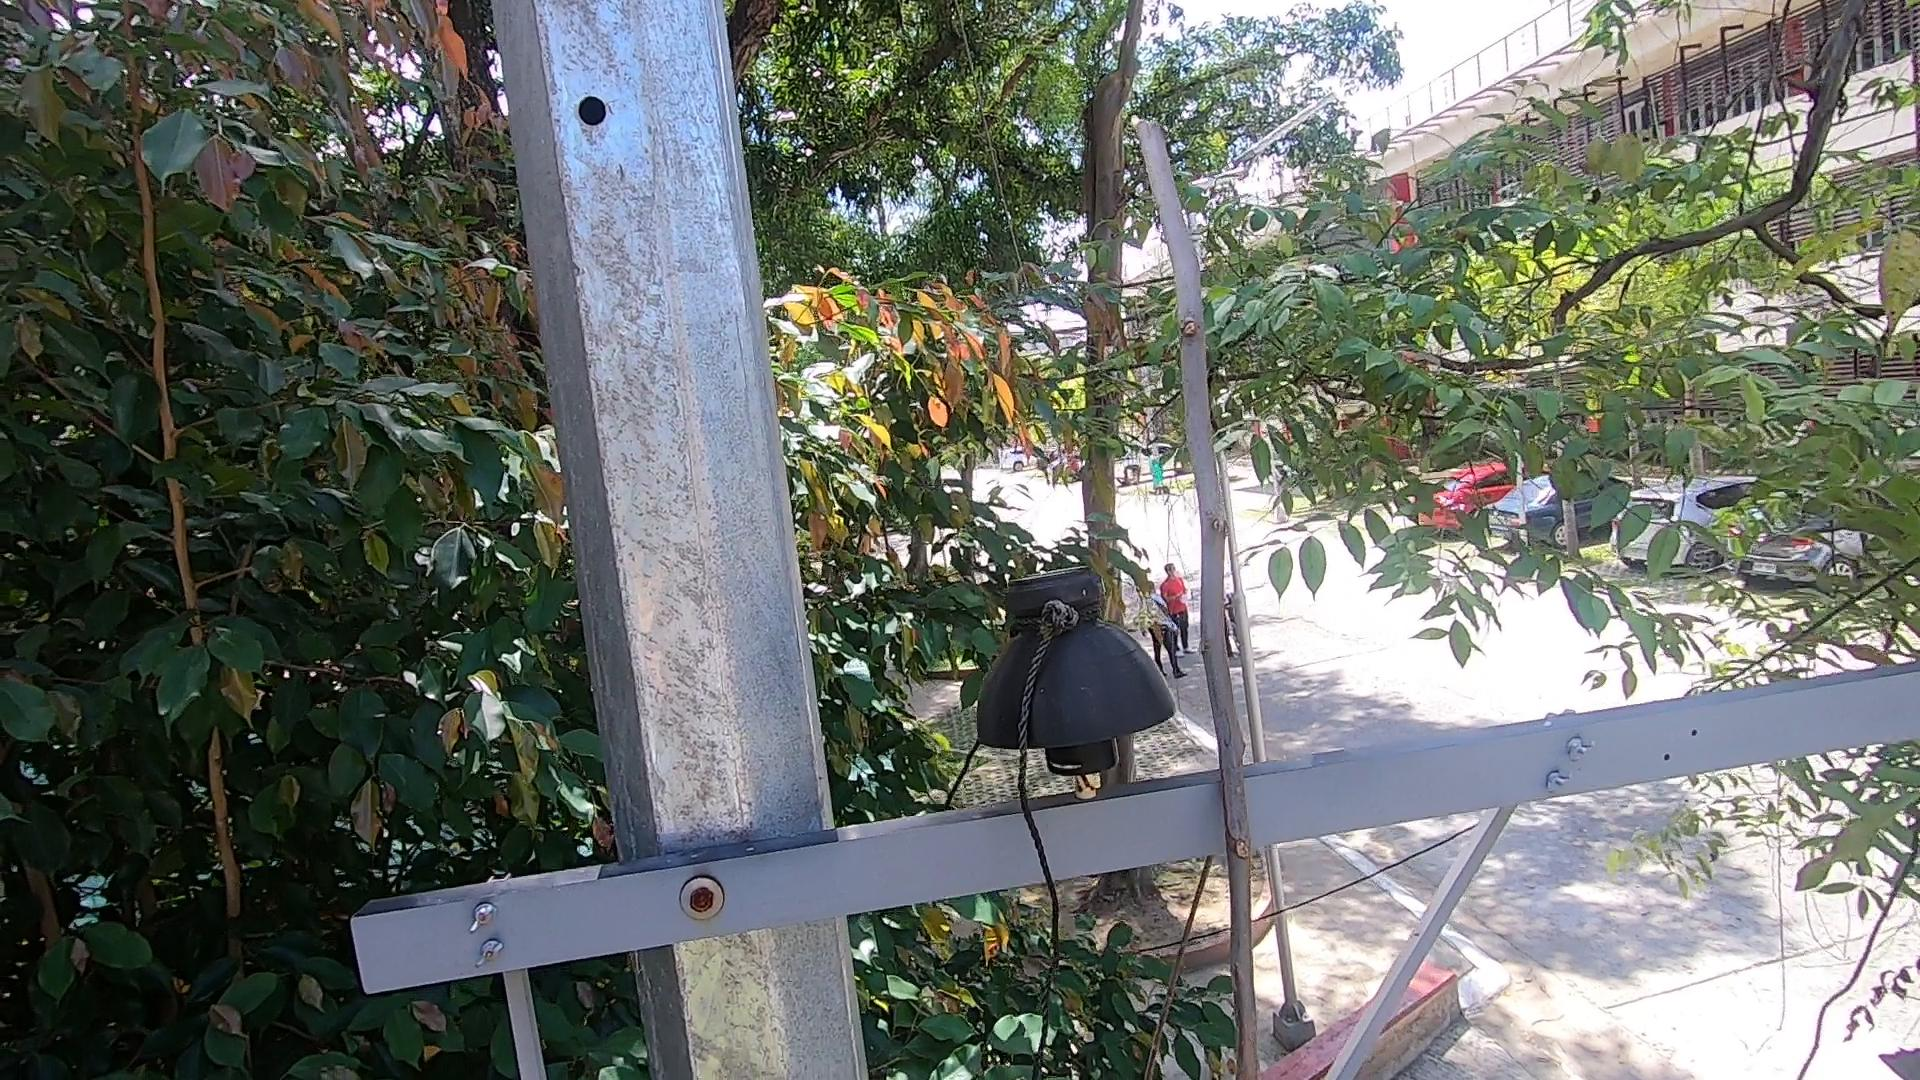tree branch: (1044, 75, 1369, 1073)
